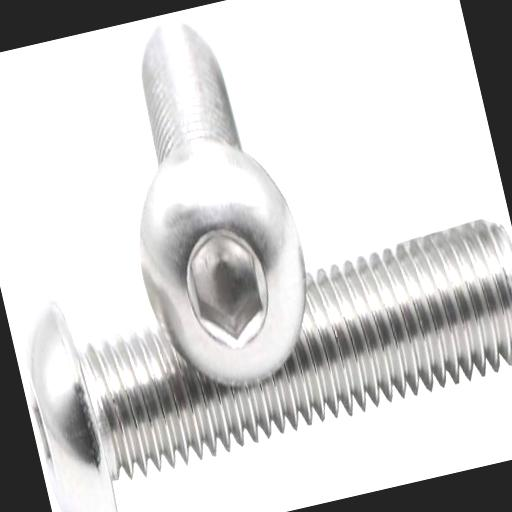Hex-Allen: (116, 122, 330, 404)
